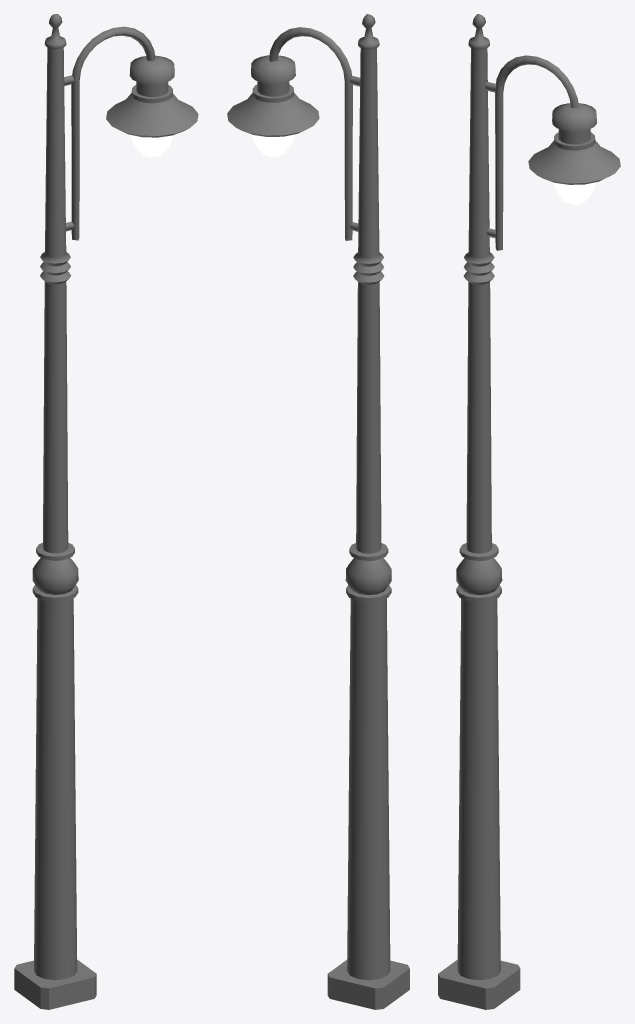
The model's file is street-light.glb.
The picture shows the model from 3 angles, left to right: view 1: azimuth 30°, elevation 25°; view 2: azimuth 150°, elevation 25°; view 3: azimuth 330°, elevation 25°; orthographic projection.
Parts seen in each view (by area): view 1: street-light; view 2: street-light; view 3: street-light.
Boxes of the visible parts, x1,y1,x2,y2 form: street-light: (14,14,198,1009); street-light: (227,14,409,1009); street-light: (438,14,620,1009).
Bounding box in the file's own units: 104 × 589 × 50.93.
Materials: 1 (1 with a texture image).
